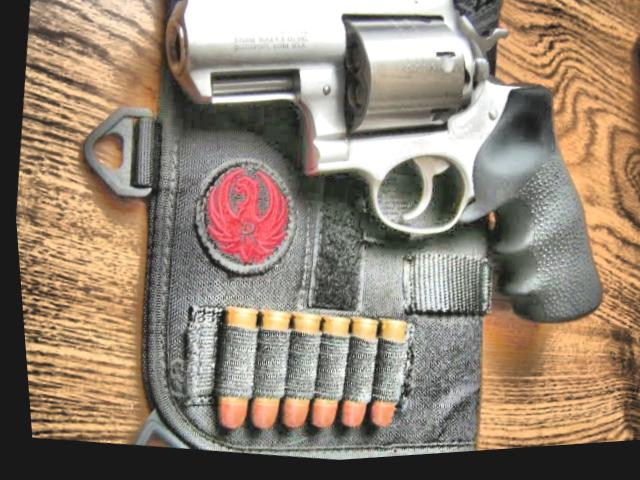pistol: (118, 0, 640, 361)
